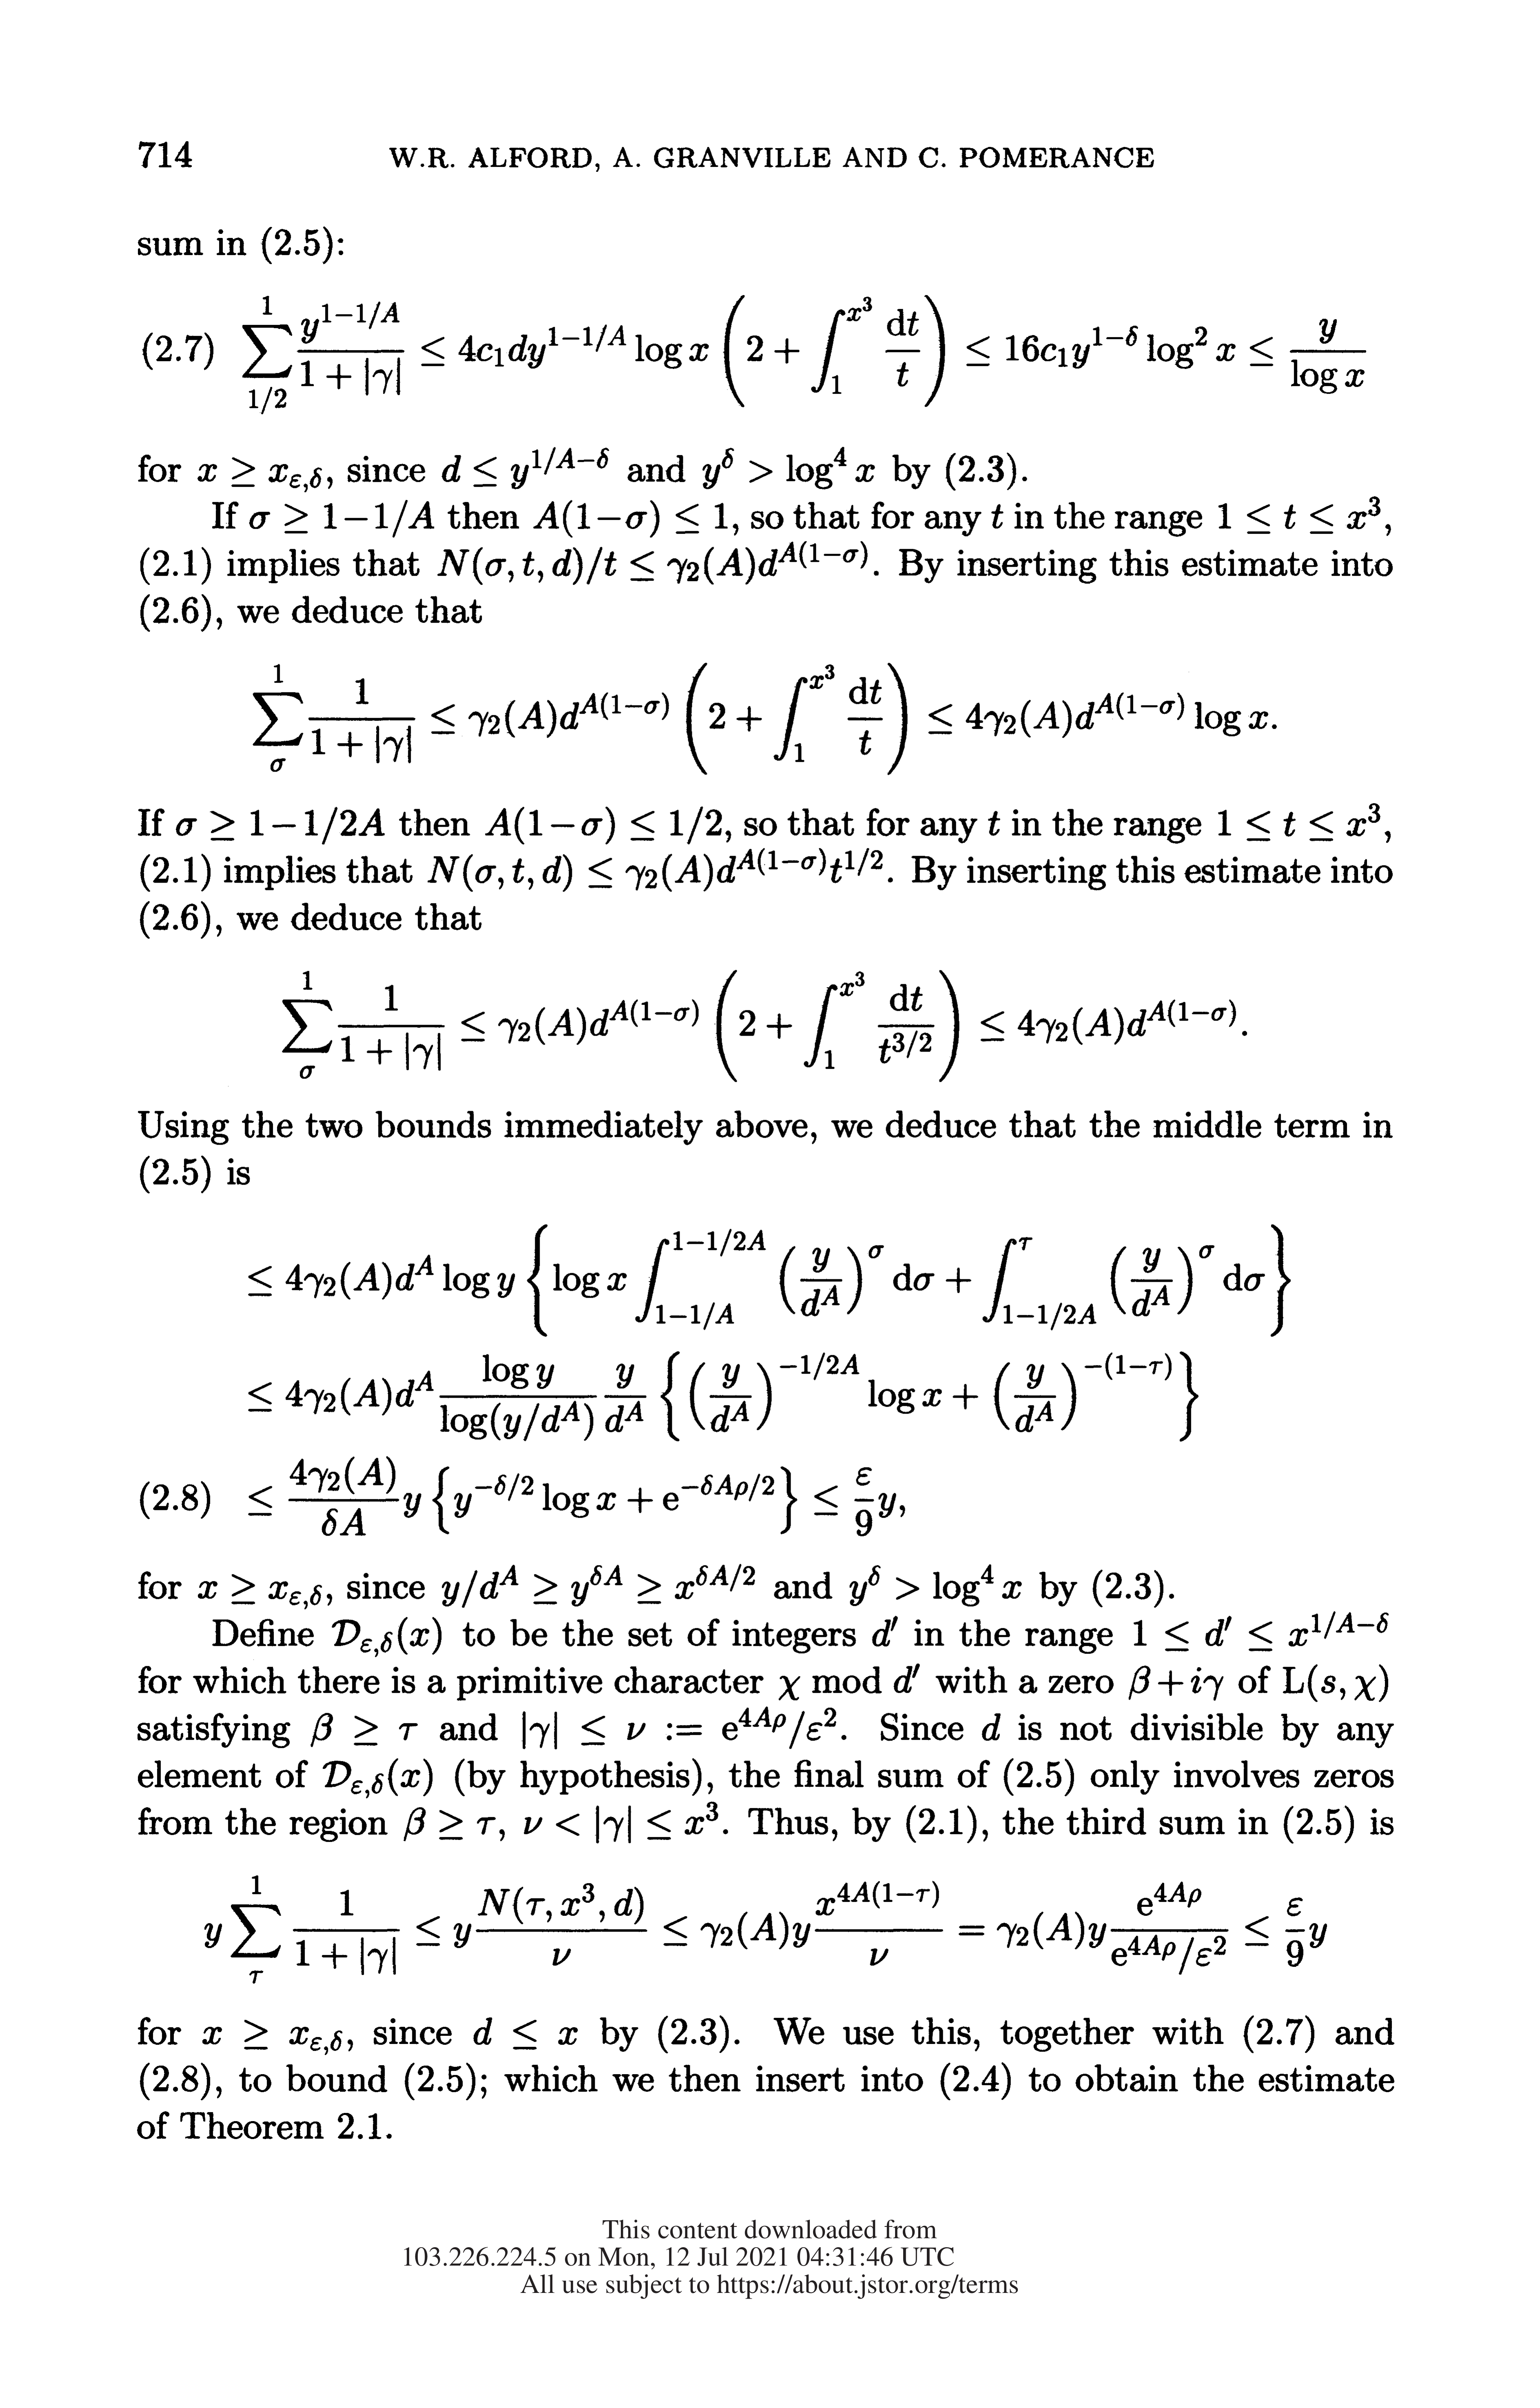maths: (242, 295, 1366, 414), (205, 1876, 1326, 1983), (247, 1225, 1291, 1336), (253, 663, 1268, 774), (282, 971, 1235, 1081), (247, 1351, 1198, 1441), (247, 1457, 896, 1536), (428, 848, 882, 892), (437, 541, 866, 584), (442, 1564, 754, 1608), (1133, 1611, 1387, 1652), (486, 806, 721, 844), (524, 1802, 717, 1843), (175, 807, 384, 844), (703, 448, 875, 490), (849, 1564, 1021, 1606), (667, 1706, 837, 1748), (533, 500, 726, 537), (442, 448, 609, 490), (249, 500, 433, 537), (1217, 804, 1380, 841), (1219, 497, 1380, 534), (779, 1664, 919, 1701), (202, 2020, 342, 2055), (521, 1711, 645, 1750), (198, 456, 332, 491), (332, 1616, 440, 1657), (198, 1574, 321, 1609), (323, 1759, 431, 1797), (1282, 1664, 1387, 1702), (310, 1713, 417, 1746), (474, 2017, 577, 2050), (403, 1808, 503, 1841), (1130, 1666, 1223, 1701), (872, 1616, 898, 1646), (982, 1713, 1000, 1741), (991, 504, 1003, 528), (987, 811, 1000, 835)
